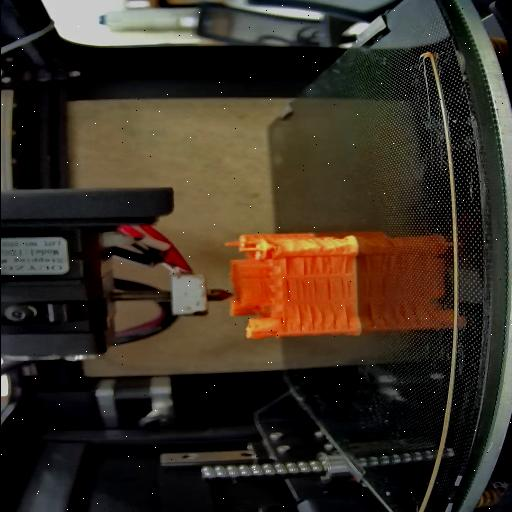cracks: (296, 304, 348, 330), (301, 254, 347, 276), (284, 278, 318, 300), (326, 277, 350, 300), (282, 257, 294, 276)
